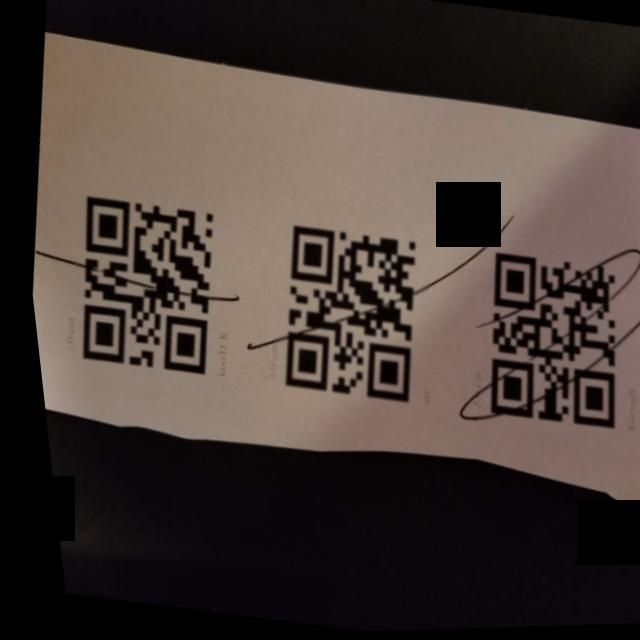QR_CODE: (244, 207, 444, 431), (448, 231, 640, 461), (44, 179, 236, 393)
